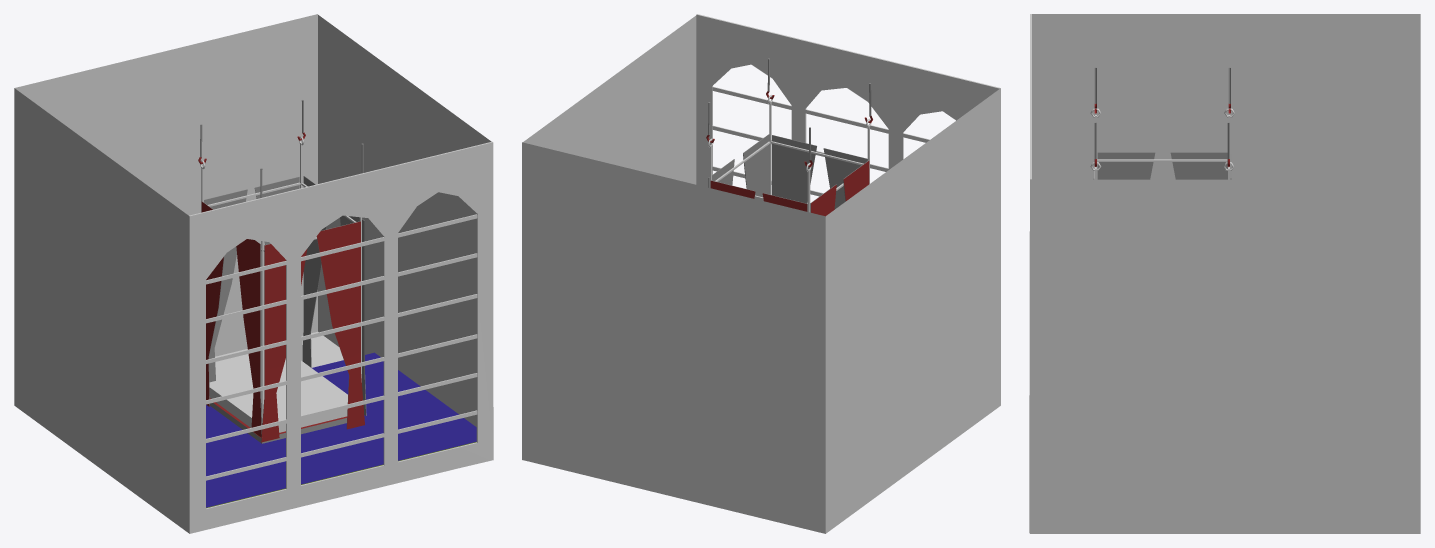
File: Chambre traditionnelle.FBX
The picture shows the model from 3 angles, left to right: view 1: azimuth 30°, elevation 25°; view 2: azimuth 150°, elevation 25°; view 3: azimuth 270°, elevation 25°; orthographic projection. The views are drawn at different scales.
Parts seen in each view (by area): view 1: mur 2 trad, mur fenetre trad, mur porte trad, mur1 trad, rideaux, estrade trad, barreaux fenetres, matelat trad, sol trad, sommier trad; view 2: mur porte trad, mur 2 trad, mur fenetre trad, mur1 trad, rideaux, barreaux fenetres; view 3: mur1 trad, mur 2 trad, rideaux, mur fenetre trad, crochets.
Part boxes in pixels (x1=…): mur 2 trad: x1=14, y1=88, x2=188, y2=532; mur fenetre trad: x1=188, y1=141, x2=493, y2=533; mur porte trad: x1=15, y1=14, x2=317, y2=356; mur1 trad: x1=318, y1=15, x2=491, y2=426; rideaux: x1=201, y1=176, x2=366, y2=442; estrade trad: x1=206, y1=352, x2=476, y2=508; barreaux fenetres: x1=206, y1=214, x2=477, y2=480; matelat trad: x1=209, y1=360, x2=347, y2=432; sol trad: x1=215, y1=331, x2=343, y2=380; sommier trad: x1=210, y1=398, x2=347, y2=443; mur porte trad: x1=522, y1=142, x2=825, y2=533; mur 2 trad: x1=825, y1=89, x2=999, y2=533; mur fenetre trad: x1=696, y1=14, x2=1000, y2=405; mur1 trad: x1=522, y1=15, x2=696, y2=460; rideaux: x1=708, y1=134, x2=869, y2=216; barreaux fenetres: x1=712, y1=86, x2=929, y2=196; mur1 trad: x1=1030, y1=179, x2=1420, y2=533; mur 2 trad: x1=1032, y1=14, x2=1420, y2=179; rideaux: x1=1093, y1=152, x2=1231, y2=179; mur fenetre trad: x1=1029, y1=14, x2=1031, y2=533; crochets: x1=1094, y1=67, x2=1230, y2=166.
Size of the model in its own units: 600 by 604 by 601.
